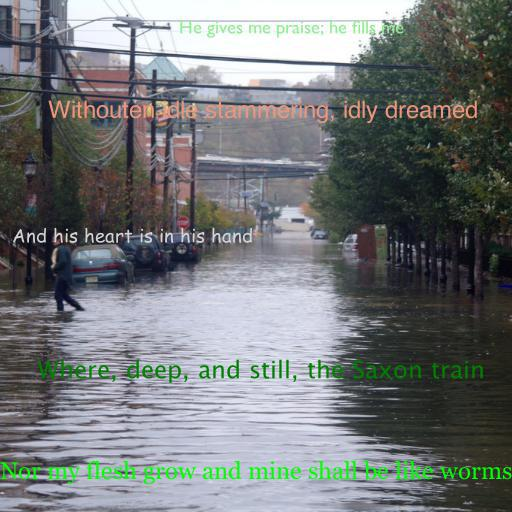Comic Sans MS: (11, 227, 253, 244)
Georgia: (0, 460, 512, 485)
Gill Sans: (178, 20, 404, 38)
Impact: (48, 100, 478, 124)
Lucida Grande: (37, 359, 485, 383)
